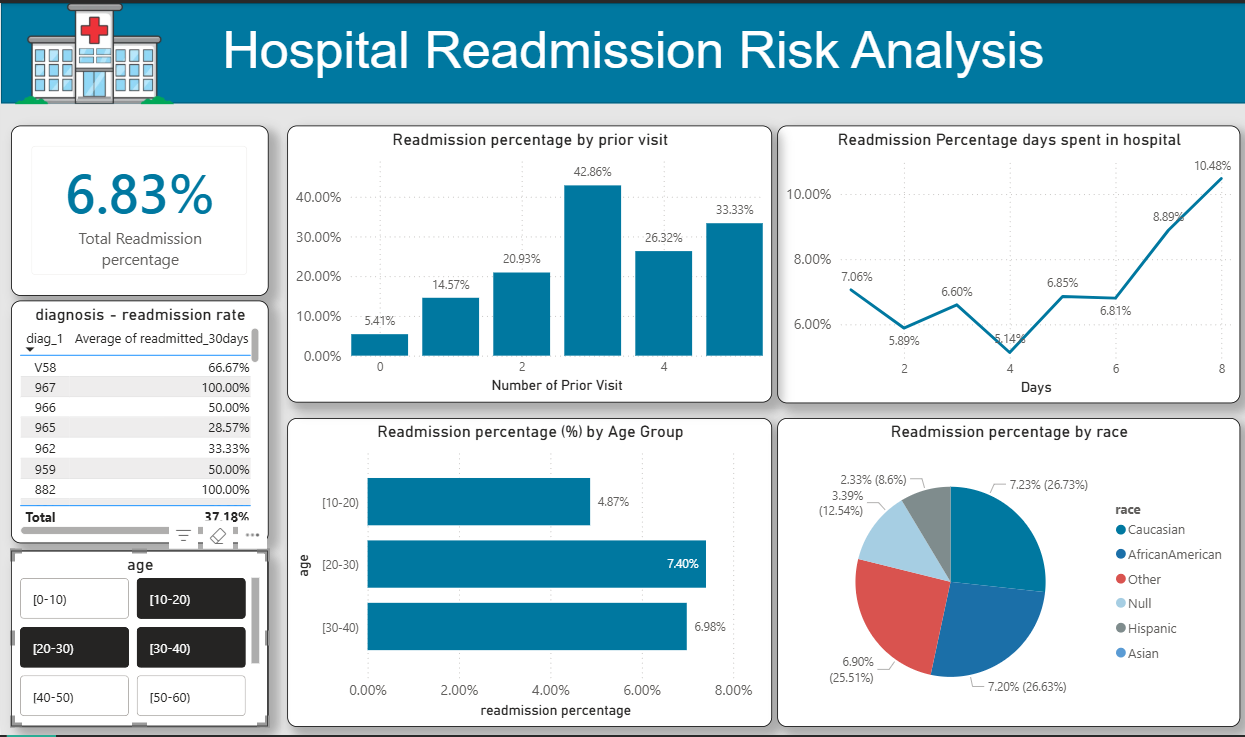

The page's visual inventory and layout, read from the dashboard file:
{"tool":"powerbi","page":{"name":"Page 1","canvas":[1280,754],"ordinal":0},"visuals":[{"type":"cardVisual","fields":{"Data":["Avg(diabetic_cleaned_v1.readmitted_30days)"]},"box":[10.7,125.6,264.6,175],"z":0},{"type":"clusteredBarChart","title":"Readmission percentage (%) by Age Group","fields":{"Category":["diabetic_cleaned_v1.age"],"Y":["Avg(diabetic_cleaned_v1.readmitted_30days)"]},"box":[293.9,426.2,498.4,318],"z":1000},{"type":"lineChart","title":"Readmission Percentage days spent in hospital","fields":{"Y":["Avg(diabetic_cleaned_v1.readmitted_30days)"],"Category":["diabetic_cleaned_v1.time_in_hospital"]},"box":[797.7,125.6,475.7,285.9],"z":2000},{"type":"clusteredColumnChart","title":"Readmission percentage by prior visit","fields":{"Y":["Avg(diabetic_cleaned_v1.readmitted_30days)"],"Category":["diabetic_cleaned_v1.number_inpatient"]},"box":[293.9,125.6,498.4,284.6],"z":3000},{"type":"tableEx","title":"diagnosis - readmission rate ","fields":{"Values":["diabetic_cleaned_v1.diag_1","Avg(diabetic_cleaned_v1.readmitted_30days)"]},"box":[10.7,306,264.6,249.9],"z":4000},{"type":"pieChart","title":"Readmission percentage by race","fields":{"Category":["diabetic_cleaned_v1.race"],"Y":["Avg(diabetic_cleaned_v1.readmitted_30days)"]},"box":[797.7,426.2,475.7,318],"z":5000},{"type":"advancedSlicerVisual","fields":{"Values":["diabetic_cleaned_v1.age"]},"box":[10.7,562.5,264.6,181.7],"z":6000},{"type":"group","id":"g1","title":"Group 1","box":[0,0,1280.3,104.2],"z":7000},{"type":"shape","box":[0,0,1280.3,103.1],"z":7000,"group":"g1"},{"type":"image","box":[0,0,192.4,104.2],"z":8000},{"type":"textbox","box":[204.4,13.4,891.2,90.9],"z":8002,"group":"g1"}]}

Visuals, with their boxes in screenshot pixels (x1, y1, x2, y2), scaled from the page's 1280x754 canvas onto the 1245x737 screenshot:
cardVisual - Avg(diabetic_cleaned_v1.readmitted_30days): <box>10,123,268,294</box>
"Readmission percentage (%) by Age Group" clusteredBarChart: <box>286,417,771,727</box>
"Readmission Percentage days spent in hospital" lineChart: <box>776,123,1239,402</box>
"Readmission percentage by prior visit" clusteredColumnChart: <box>286,123,771,401</box>
"diagnosis - readmission rate " tableEx: <box>10,299,268,543</box>
"Readmission percentage by race" pieChart: <box>776,417,1239,727</box>
advancedSlicerVisual - diabetic_cleaned_v1.age: <box>10,550,268,727</box>
"Group 1" group: <box>0,0,1244,102</box>
shape: <box>0,0,1244,101</box>
image: <box>0,0,187,102</box>
textbox: <box>199,13,1066,102</box>
